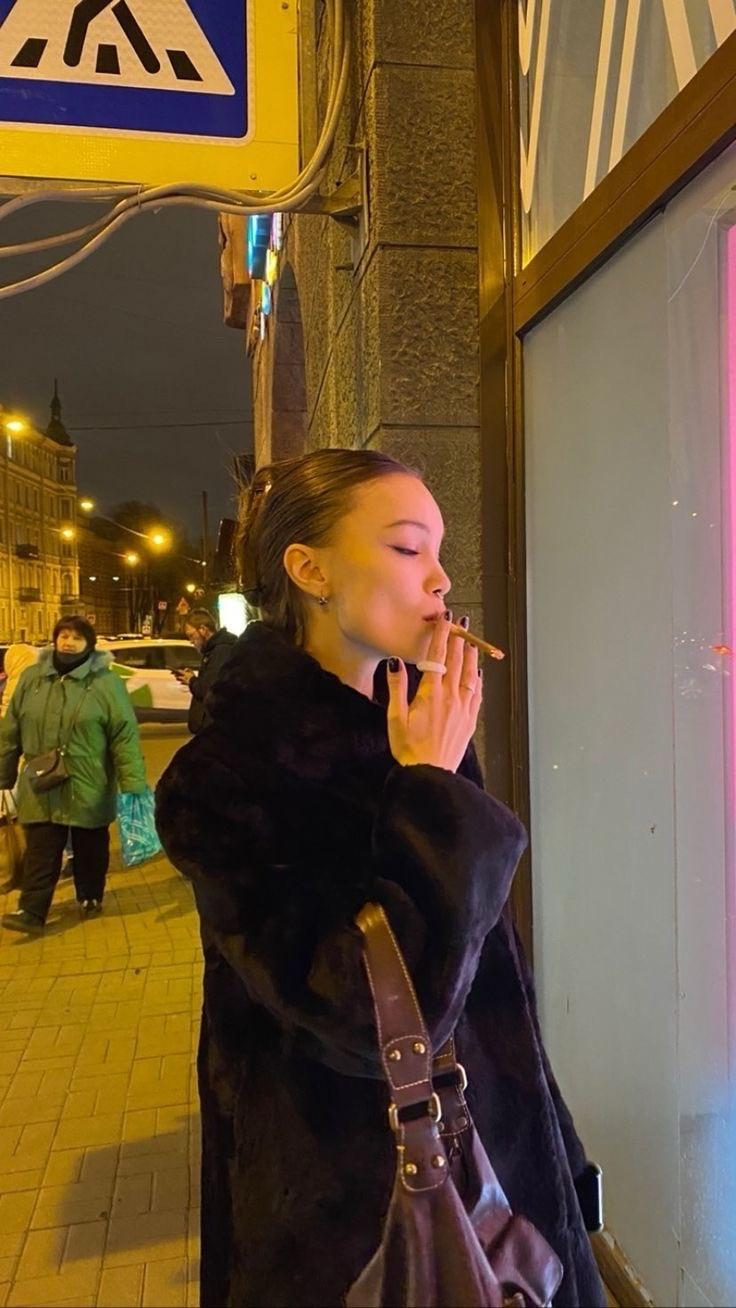cigarette: (448, 621, 505, 661)
